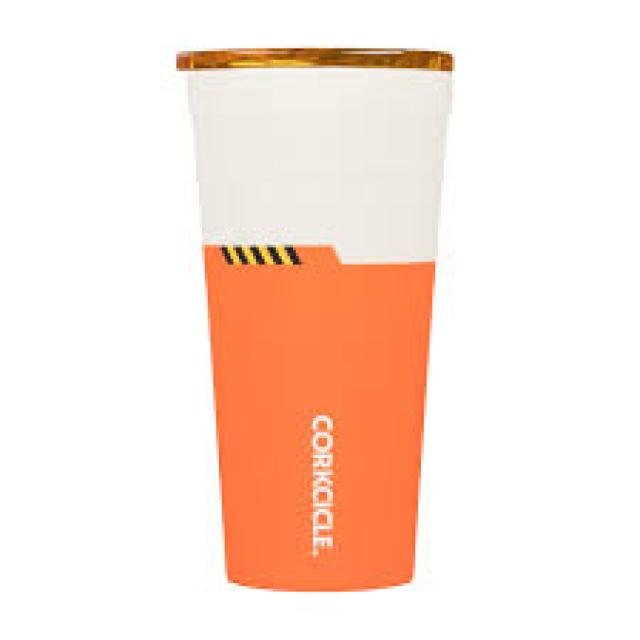bottle: (172, 46, 462, 592)
